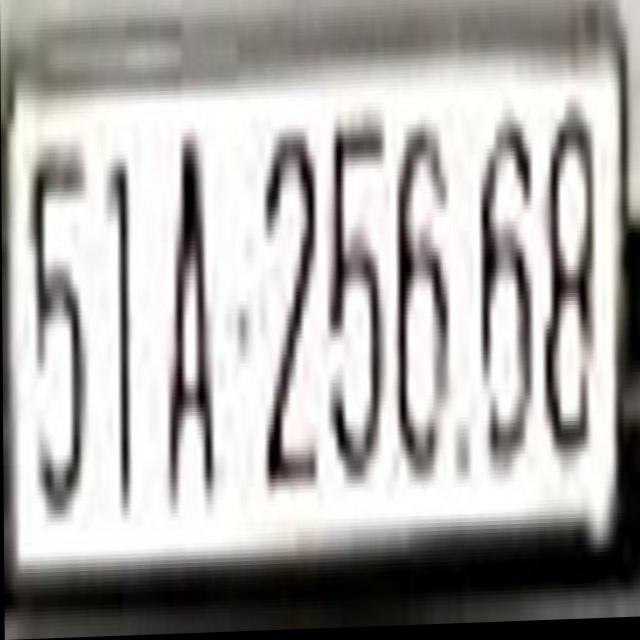1: (107, 132, 134, 524)
2: (258, 134, 321, 512)
5: (328, 101, 385, 491), (29, 130, 85, 515)
6: (392, 104, 449, 485), (477, 90, 532, 467)
8: (540, 95, 594, 469)
A: (160, 130, 217, 507)
